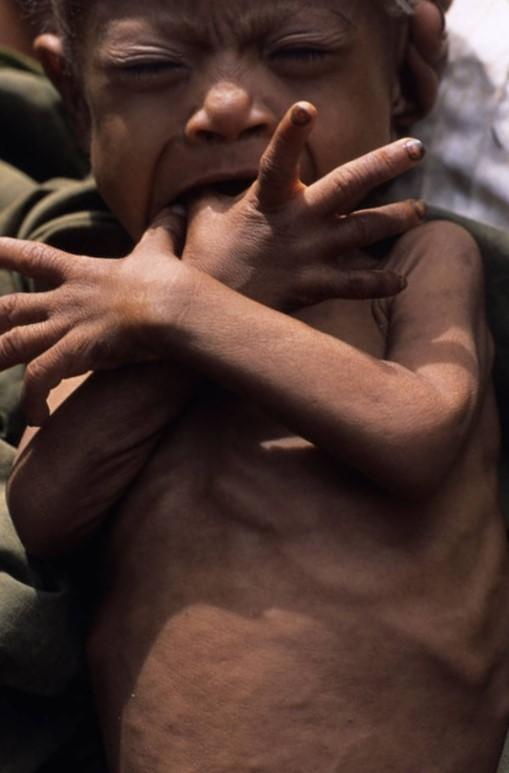Stunting: (48, 0, 468, 298)
